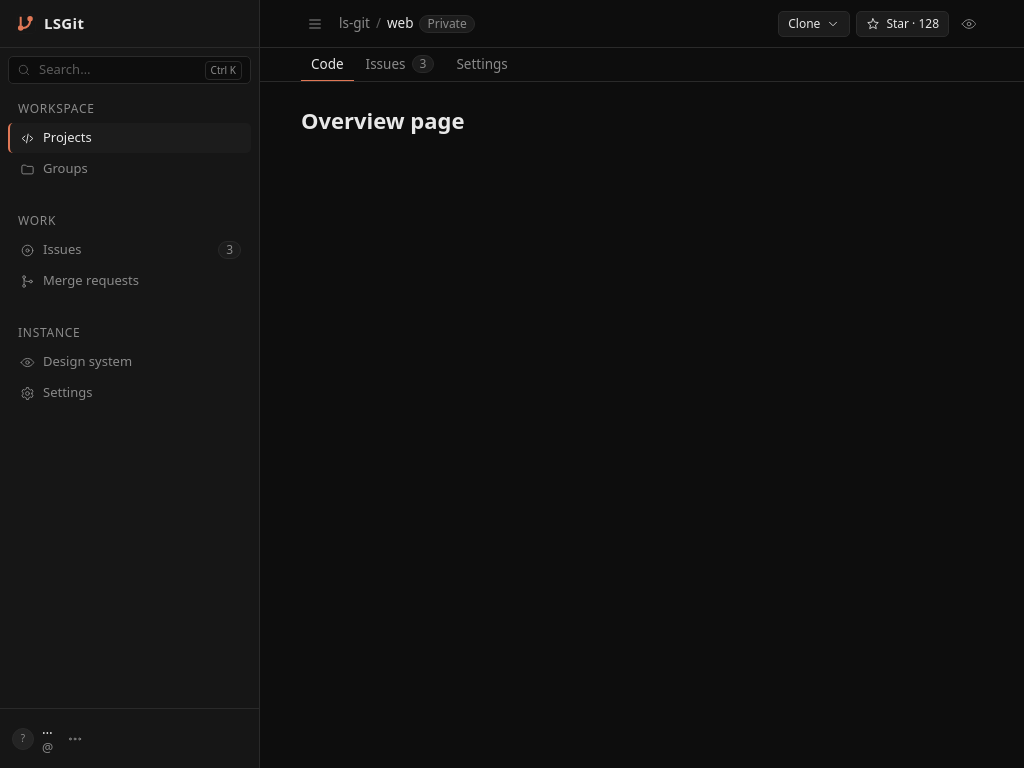
Test case: AppShell › opens the mobile navigation drawer from the menu button
Step 1. Click the button with class "ls-contextbar__menu" → (315, 24), box [301,10,329,38]
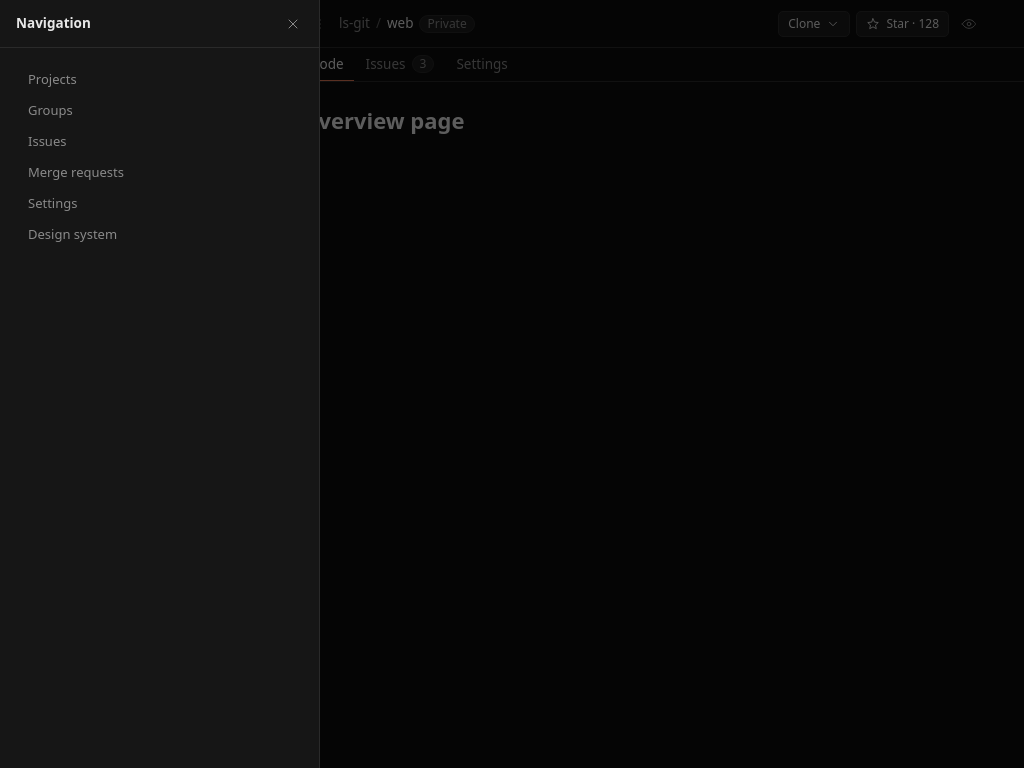
expect the dialog "Navigation" is shown: met, box [0,0,320,767]
Step 2. Click the button named "Close drawer" → (293, 24), box [279,10,307,38]
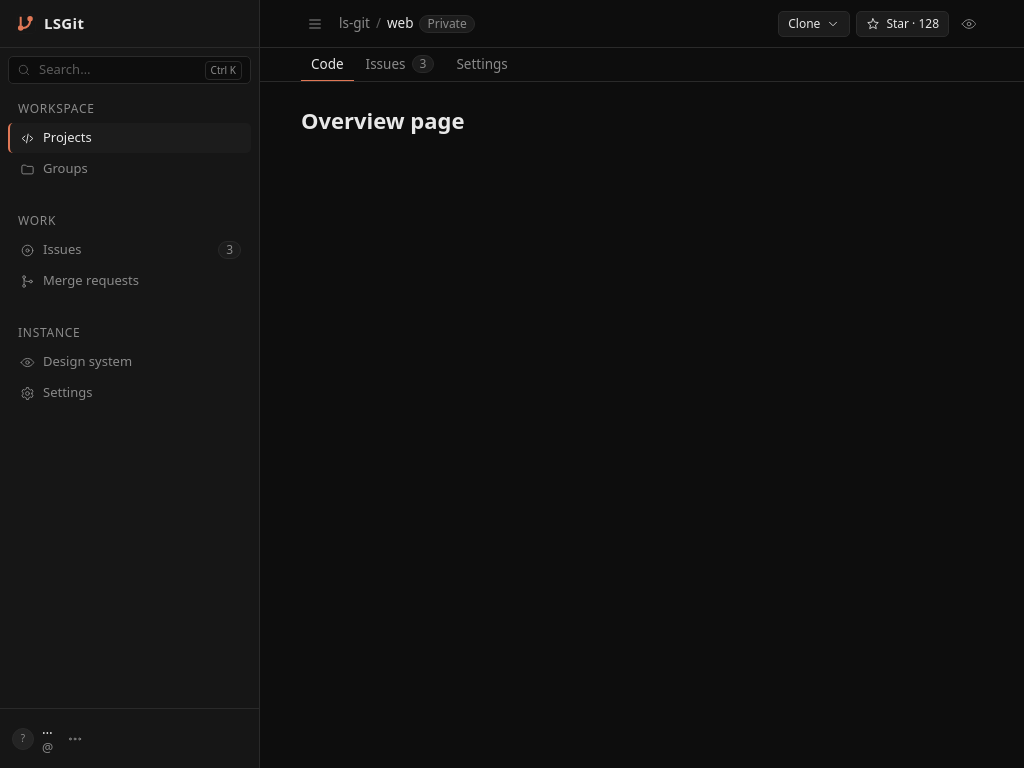
expect the heading "Navigation" is gone: met
